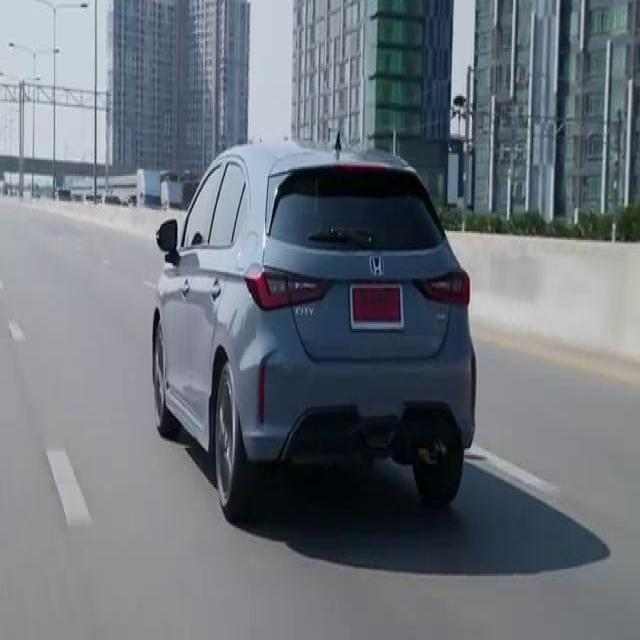Hatchback: (152, 140, 476, 521)
